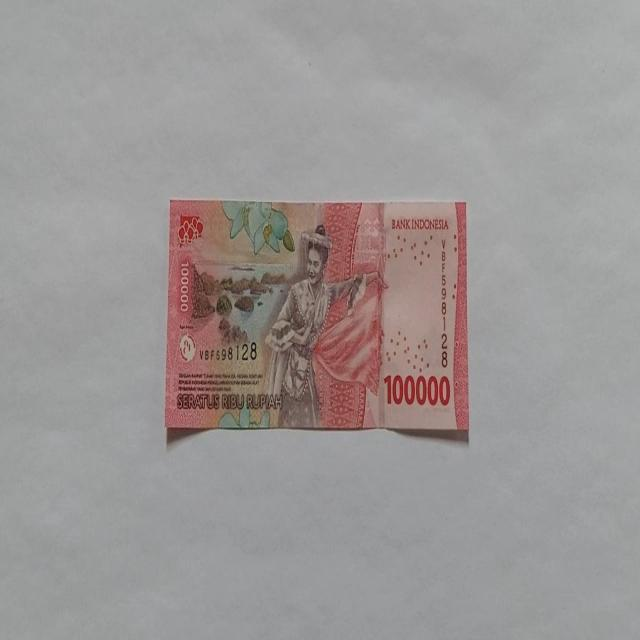Kertas: (164, 197, 468, 440), (383, 371, 451, 408)
